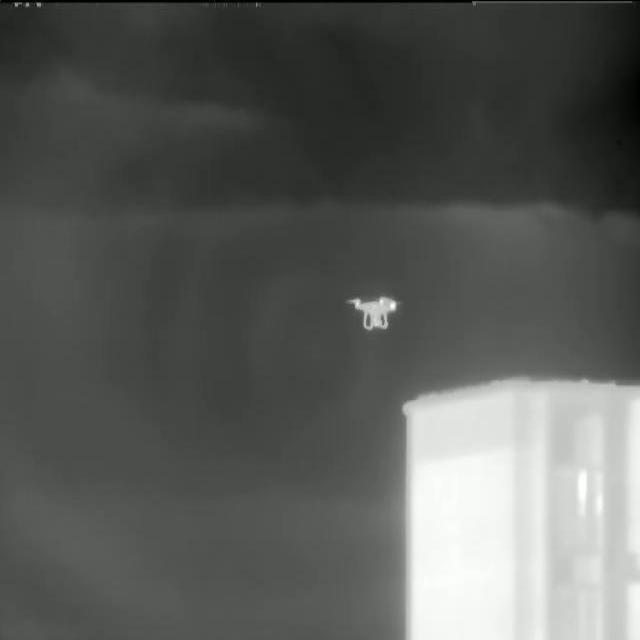DRONE: (342, 292, 406, 331)
